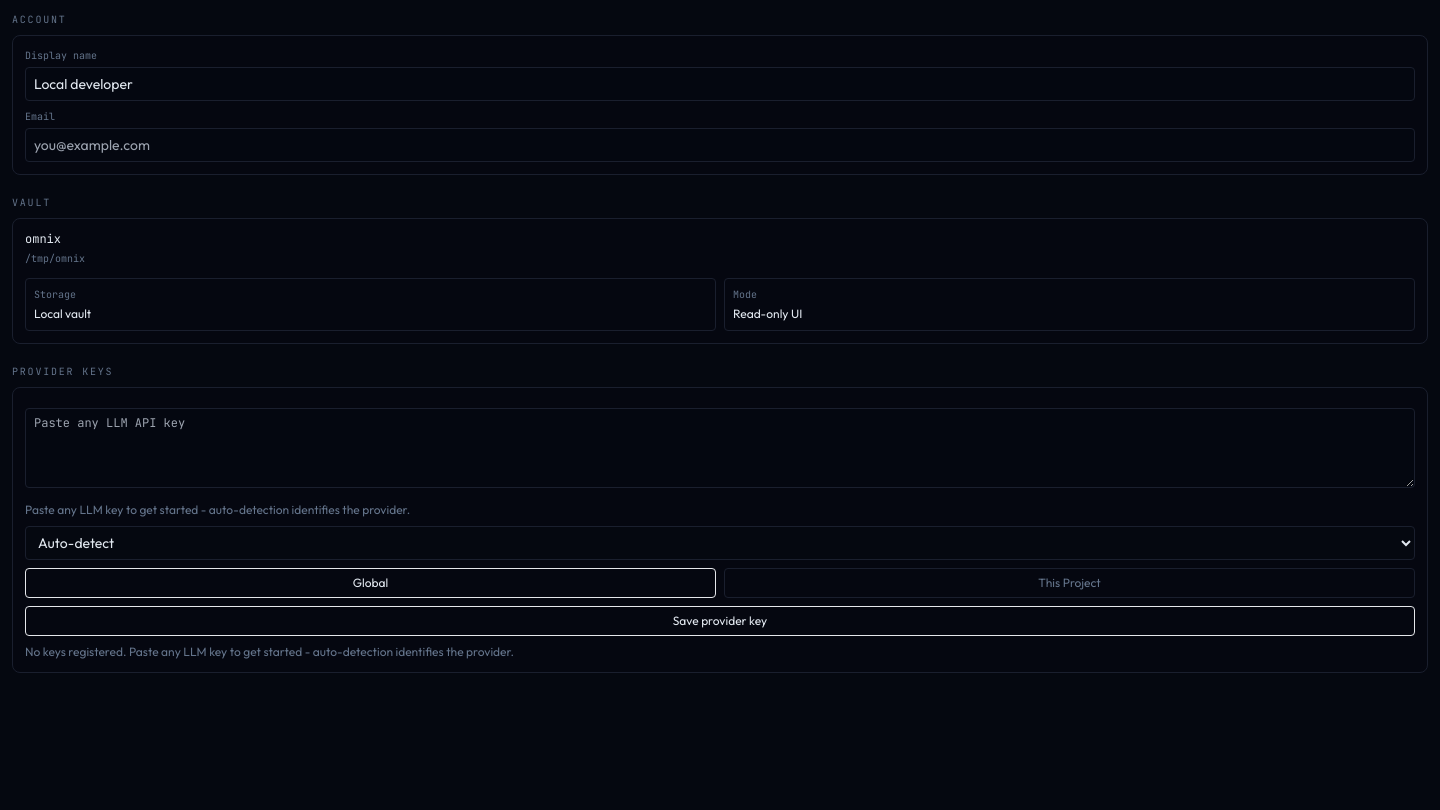
Test: SettingsDrawer provider keys › reveals custom endpoint fields
The width and height of the screenshot is (1440, 810).
Select "Custom (OpenAI-compatible endpoint)" in the dropdown at x=720, y=543, box [25, 526, 1415, 560]
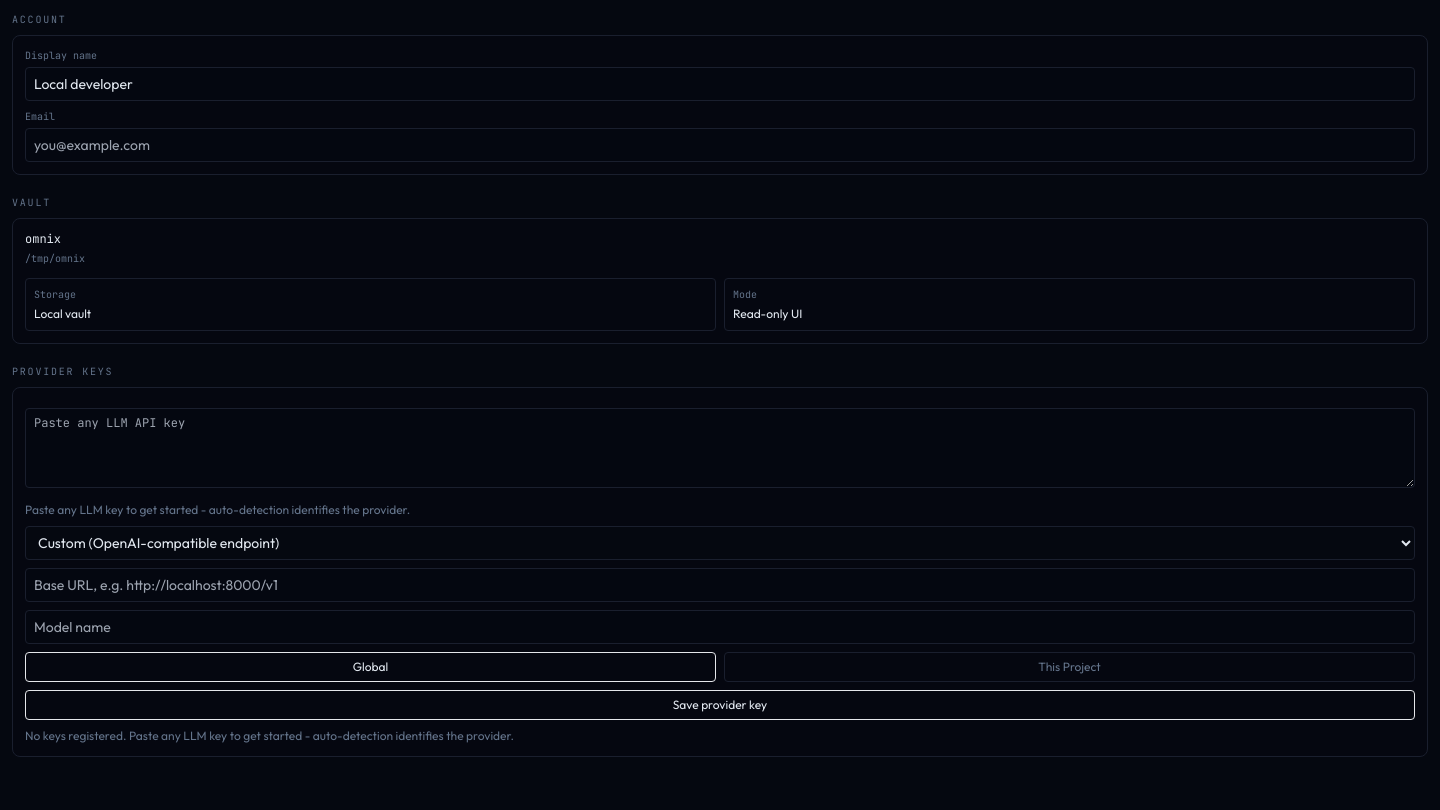
Expected: the text "Save provider key" is shown, [25, 690, 1415, 720]
Expected: the field with placeholder "Base URL, e.g. http://localhost:8000/v1" is shown, [25, 568, 1415, 602]
